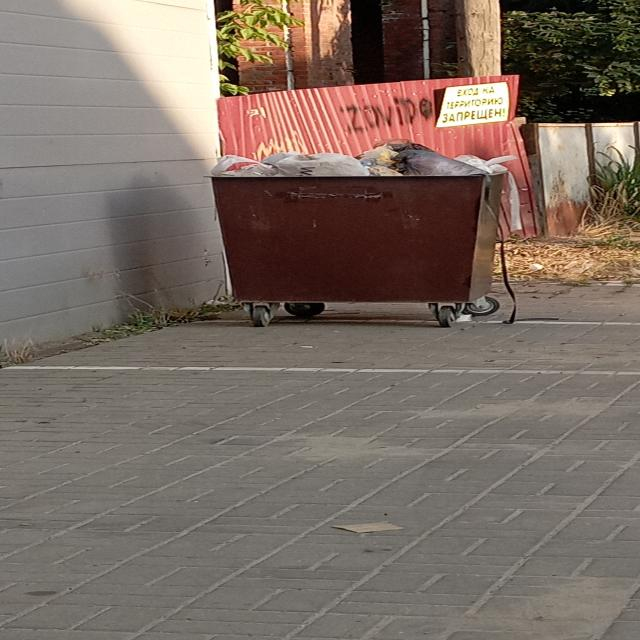bin: (222, 178, 516, 318)
trash: (210, 144, 518, 176)
